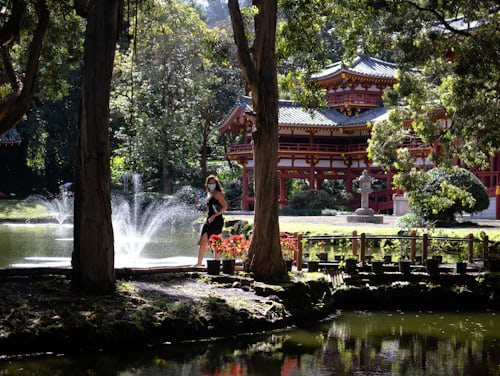Walking: (175, 176, 233, 273)
